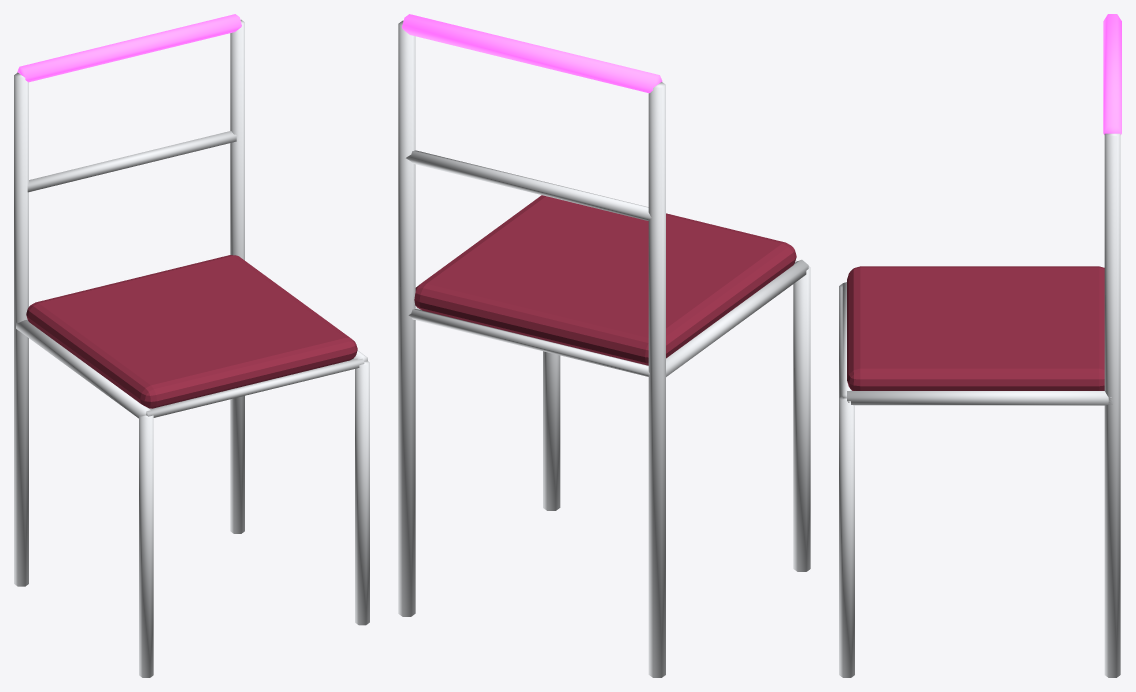
File: dining_chair_wire.glb
3 views of the same model, side by side, from view 1: azimuth 30°, elevation 25°; view 2: azimuth 150°, elevation 25°; view 3: azimuth 270°, elevation 25° (orthographic). The views are drawn at different scales.
Visible parts, largest first — view 1: GD_dining_chair_wire__m1, GD_dining_chair_wire__m0, GD_dining_chair_wire__m2; view 2: GD_dining_chair_wire__m0, GD_dining_chair_wire__m1, GD_dining_chair_wire__m2; view 3: GD_dining_chair_wire__m1, GD_dining_chair_wire__m0, GD_dining_chair_wire__m2.
Part boxes in pixels (x1,y1,x2,y2): GD_dining_chair_wire__m1: [26, 255, 357, 408]; GD_dining_chair_wire__m0: [14, 19, 369, 677]; GD_dining_chair_wire__m2: [17, 14, 241, 82]; GD_dining_chair_wire__m0: [398, 20, 810, 677]; GD_dining_chair_wire__m1: [414, 195, 796, 365]; GD_dining_chair_wire__m2: [402, 14, 662, 93]; GD_dining_chair_wire__m1: [847, 266, 1104, 390]; GD_dining_chair_wire__m0: [839, 133, 1120, 677]; GD_dining_chair_wire__m2: [1103, 14, 1121, 134].
Size of the model in its own units: 0.4208 by 0.9121 by 0.426.
